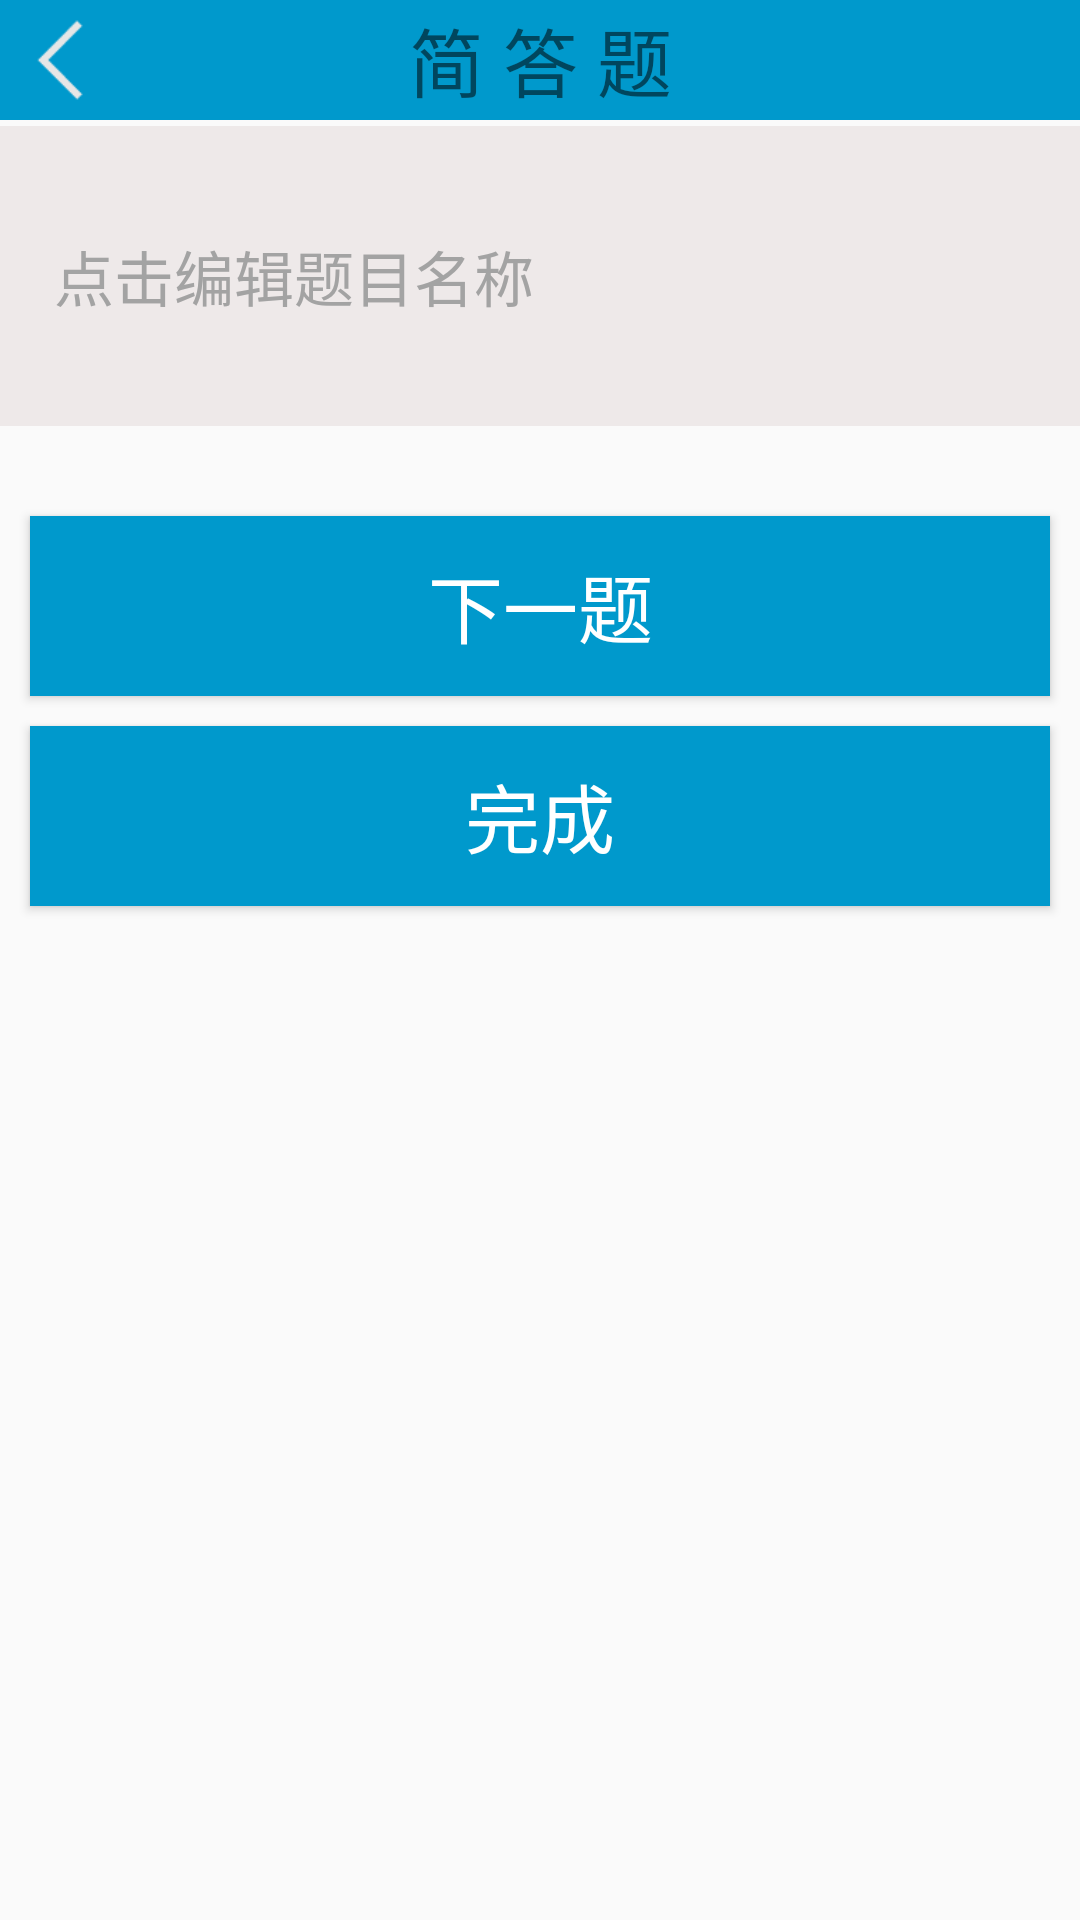

Icon bounding boxes for this 1080×1920 phone screenshot, format (x1, y1, x2, y2):
back: (37, 20, 83, 100)
